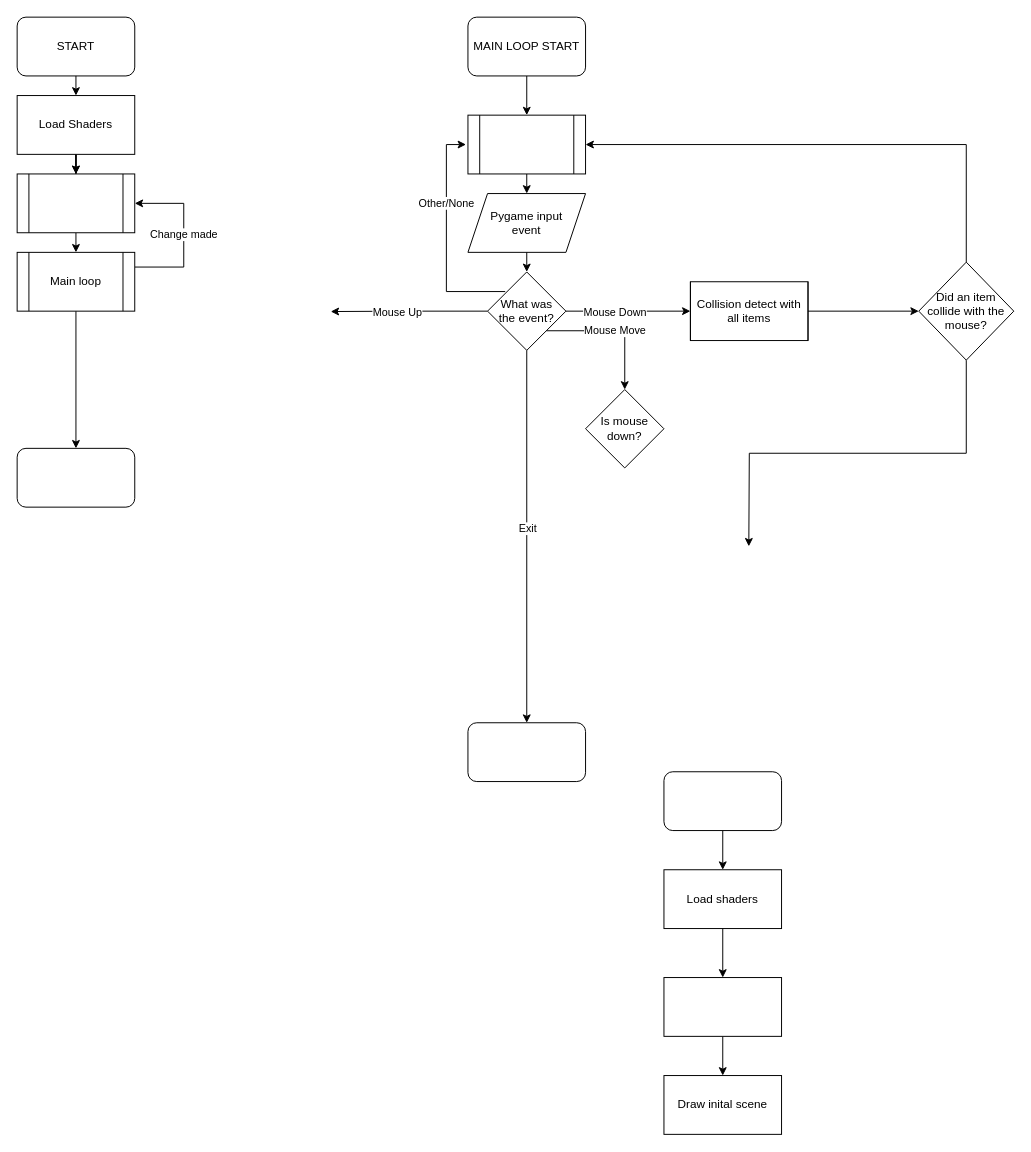
Image size: 1031x1152. Some labels were removed from this diagram. Each missing label, with the centre of its shape:
CPU Setup: the point at 75,203
Determine values for window size, canvas size, etc.: the point at 722,1006
END: the point at 75,477
Initial Setup: the point at 722,801
MAIN LOOP END: the point at 526,752
Render: the point at 526,144
